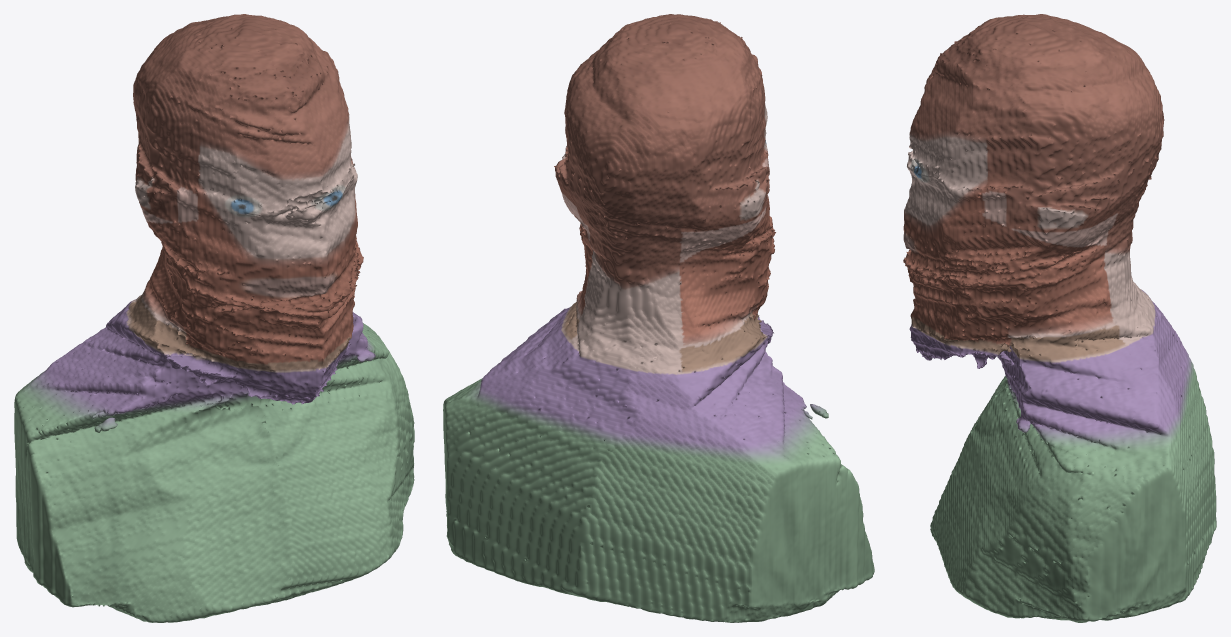
Rendered from twin-head-v5.glb.
3 views of the same model, side by side, from view 1: azimuth 30°, elevation 25°; view 2: azimuth 150°, elevation 25°; view 3: azimuth 270°, elevation 25° (orthographic). The views are drawn at different scales.
Parts seen in each view (by area): view 1: graded_v3.ply; view 2: graded_v3.ply; view 3: graded_v3.ply.
Boxes of the visible parts, box(x1,y1,x2,y2) form: graded_v3.ply: box(14, 14, 414, 622); graded_v3.ply: box(443, 14, 874, 622); graded_v3.ply: box(903, 14, 1216, 622).
Size of the model in its own units: 2.12 by 2.83 by 1.5.
